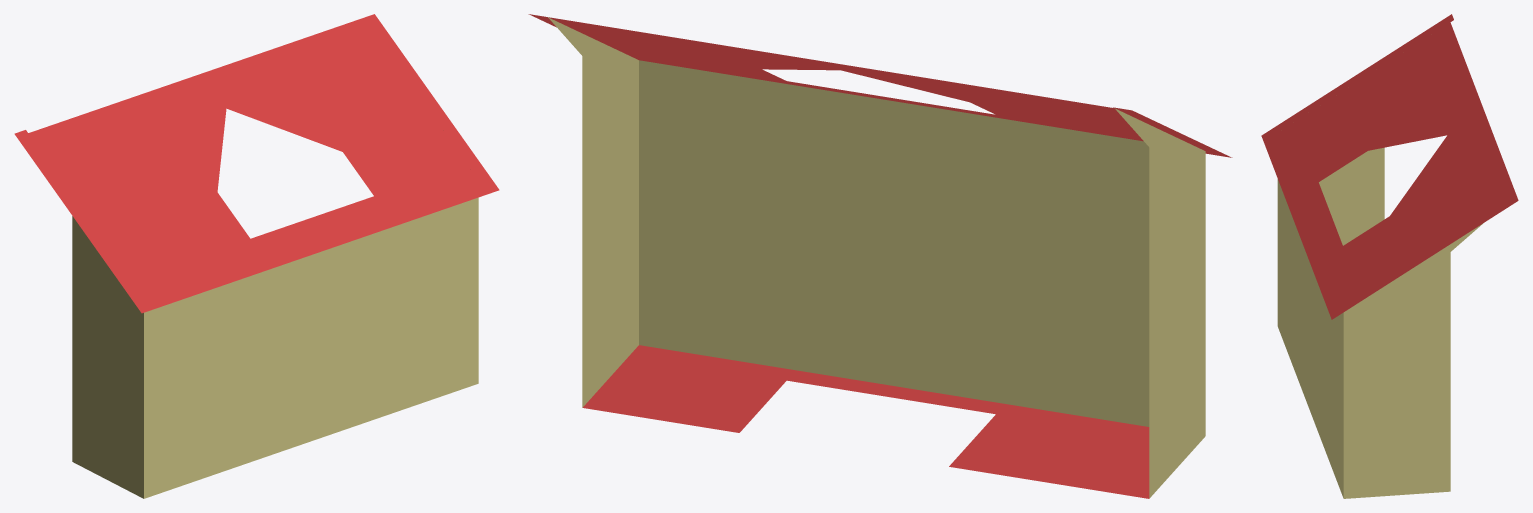
The picture shows the model from 3 angles, left to right: view 1: azimuth 30°, elevation 25°; view 2: azimuth 150°, elevation 25°; view 3: azimuth 270°, elevation 25°; orthographic projection. The views are drawn at different scales.
Size of the model in its own units: 16.28 by 8.97 by 11.33.
